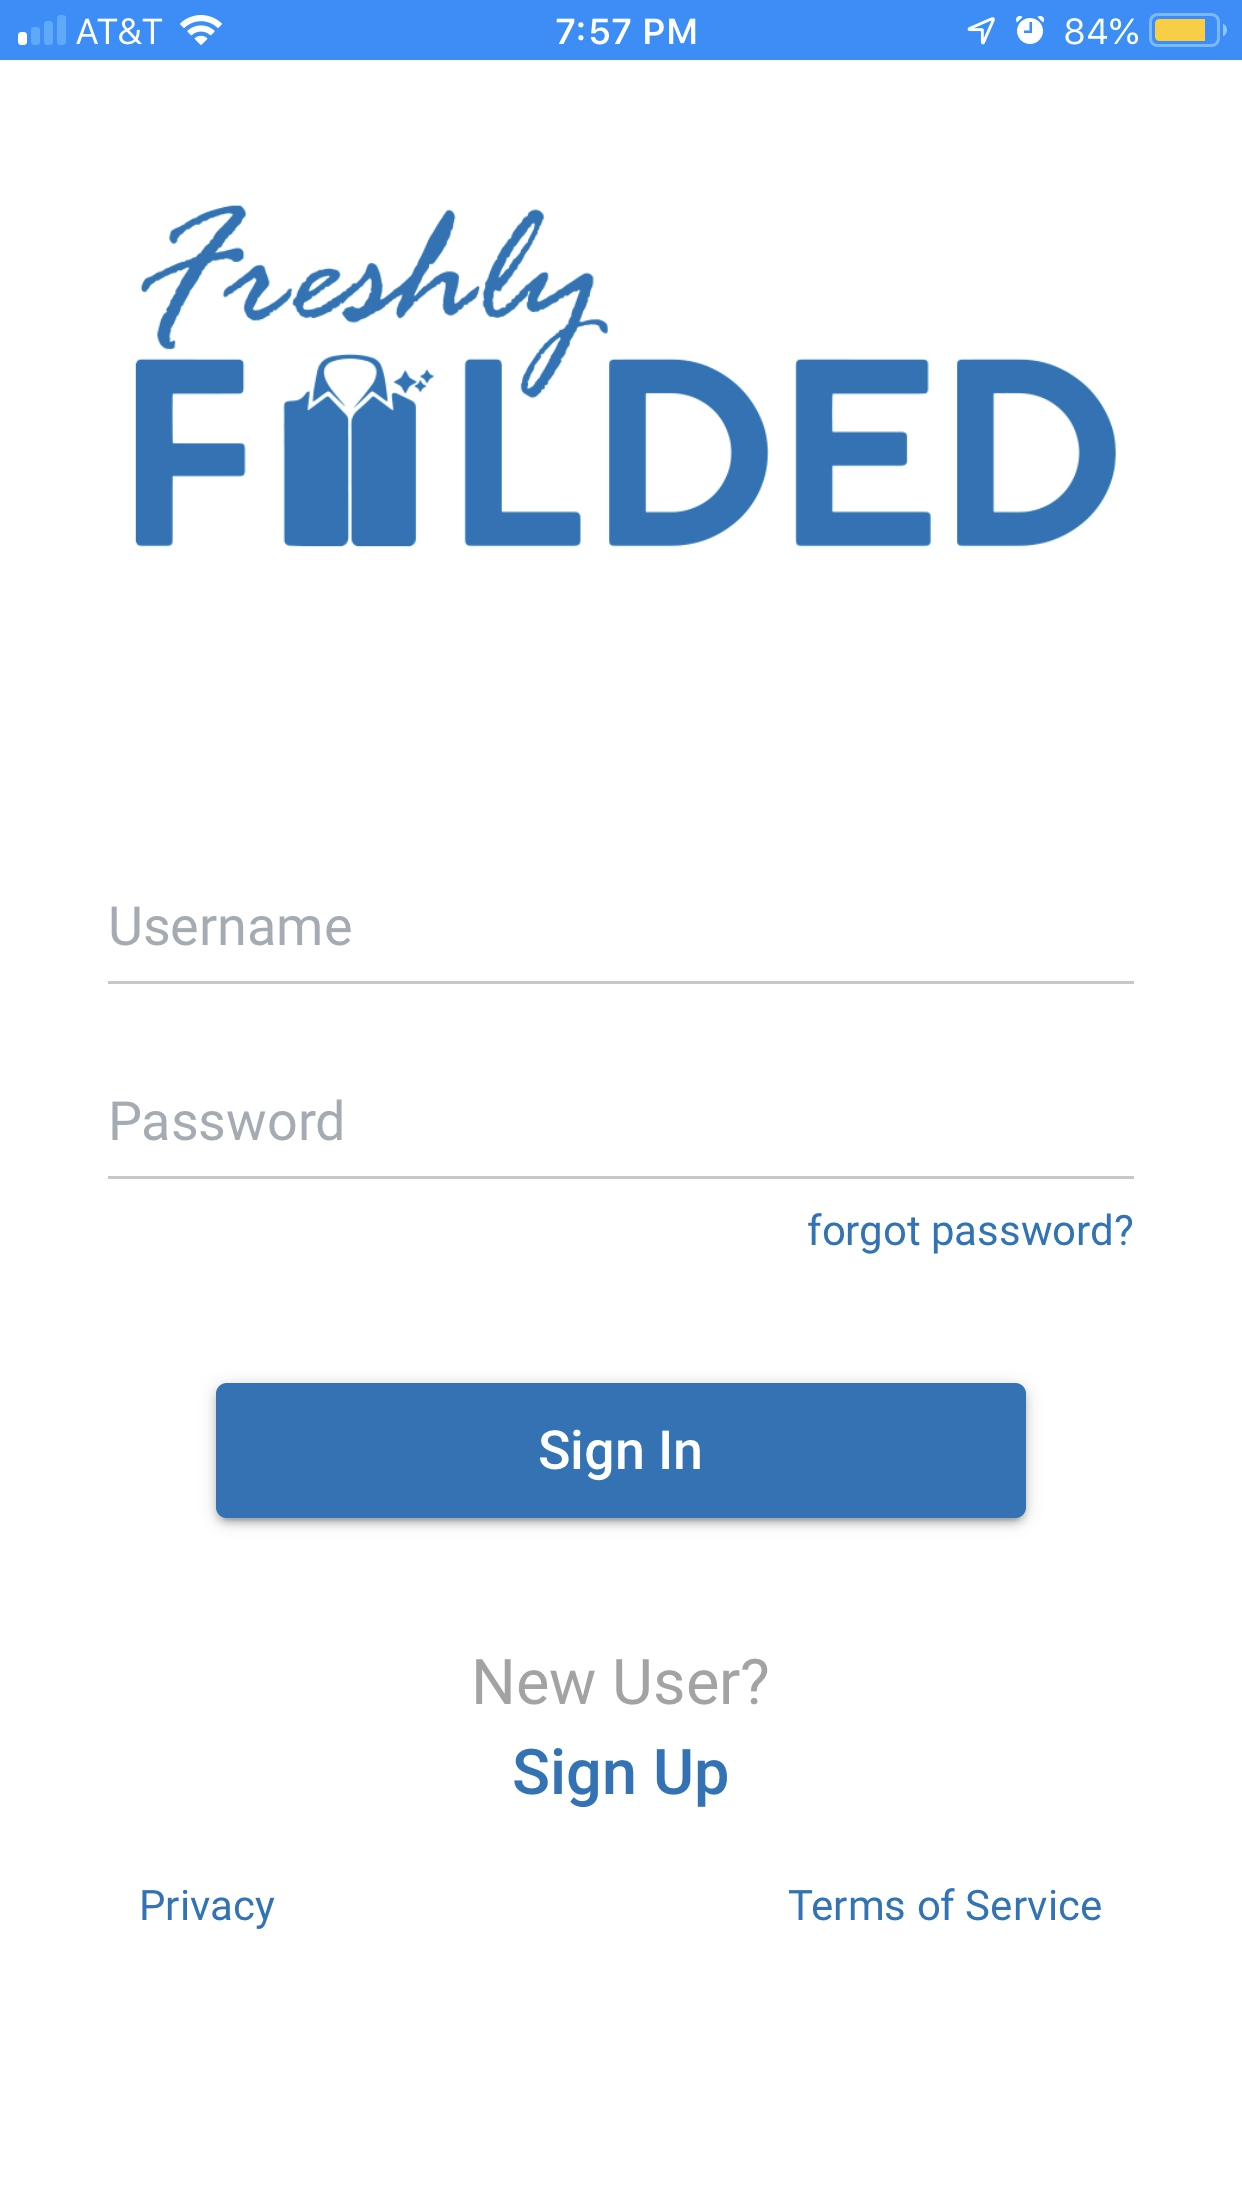EditText: (108, 1099, 1134, 1180), (108, 905, 1134, 986)
Image: (136, 205, 1118, 547)
Text: (476, 1658, 767, 1706), (808, 1213, 1133, 1256), (514, 1747, 728, 1808), (789, 1887, 1102, 1921), (112, 905, 353, 946), (112, 1099, 343, 1140), (143, 1890, 276, 1930)
TextButton: (217, 1383, 1027, 1520)
UpperTaskBar: (2, 2, 1242, 61)
